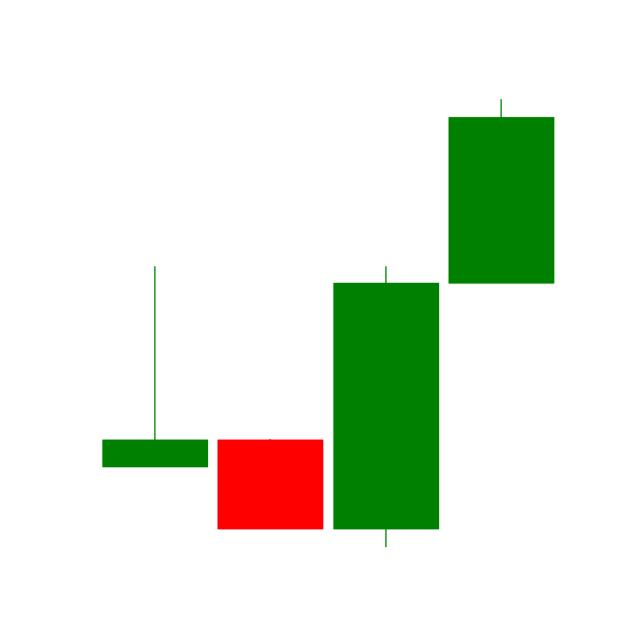Bearish Marubozu: (214, 437, 326, 533)
